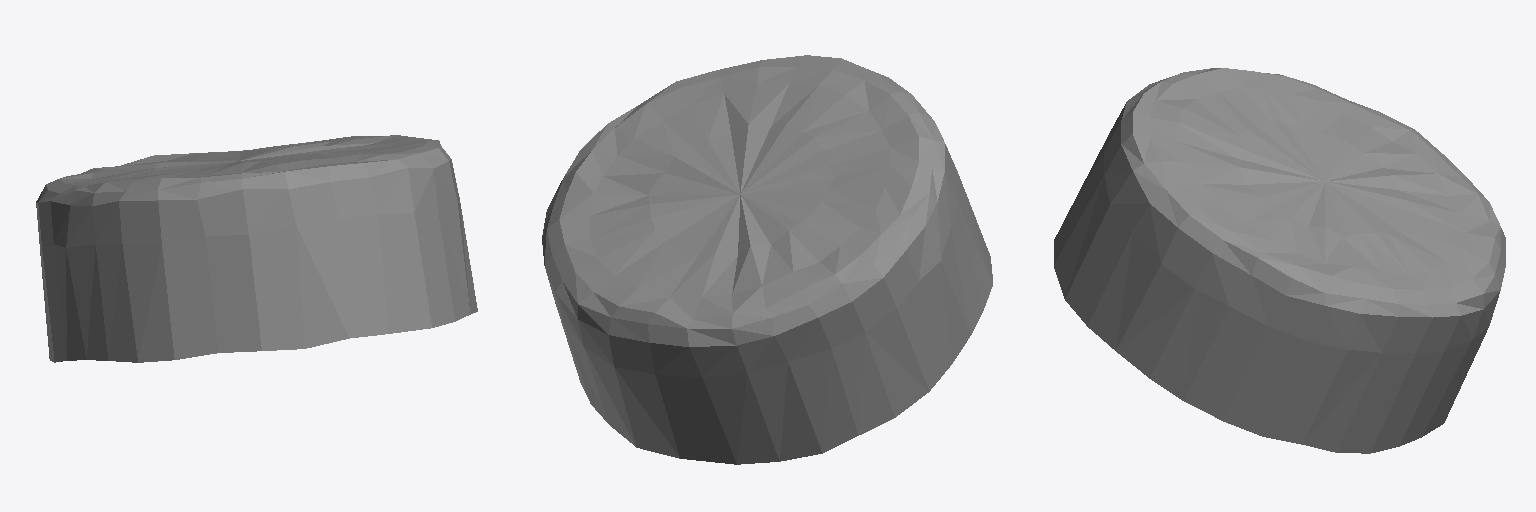
The model's file is left_app_button.obj.
3 views of the same model, side by side, from view 1: azimuth 30°, elevation 25°; view 2: azimuth 150°, elevation 25°; view 3: azimuth 270°, elevation 25° (orthographic).
Visible parts, largest first — view 1: left_app_button; view 2: left_app_button; view 3: left_app_button.
Boxes of the visible parts, <box> form: left_app_button: <box>36,135,477,362</box>; left_app_button: <box>542,55,992,464</box>; left_app_button: <box>1054,68,1505,453</box>.
Bounding box in the file's own units: 0.0076 × 0.0056 × 0.008.